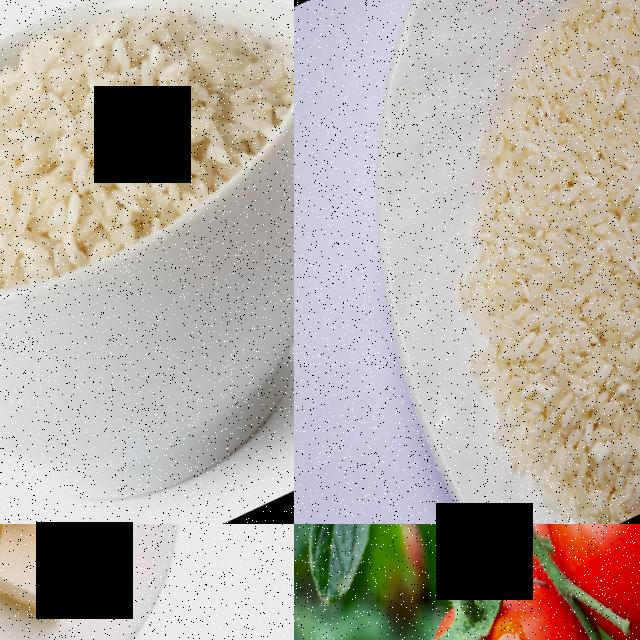tofu: (0, 524, 113, 640)
tomato: (389, 537, 640, 640), (503, 524, 640, 640)
white rice: (450, 0, 640, 524), (0, 0, 294, 335)
